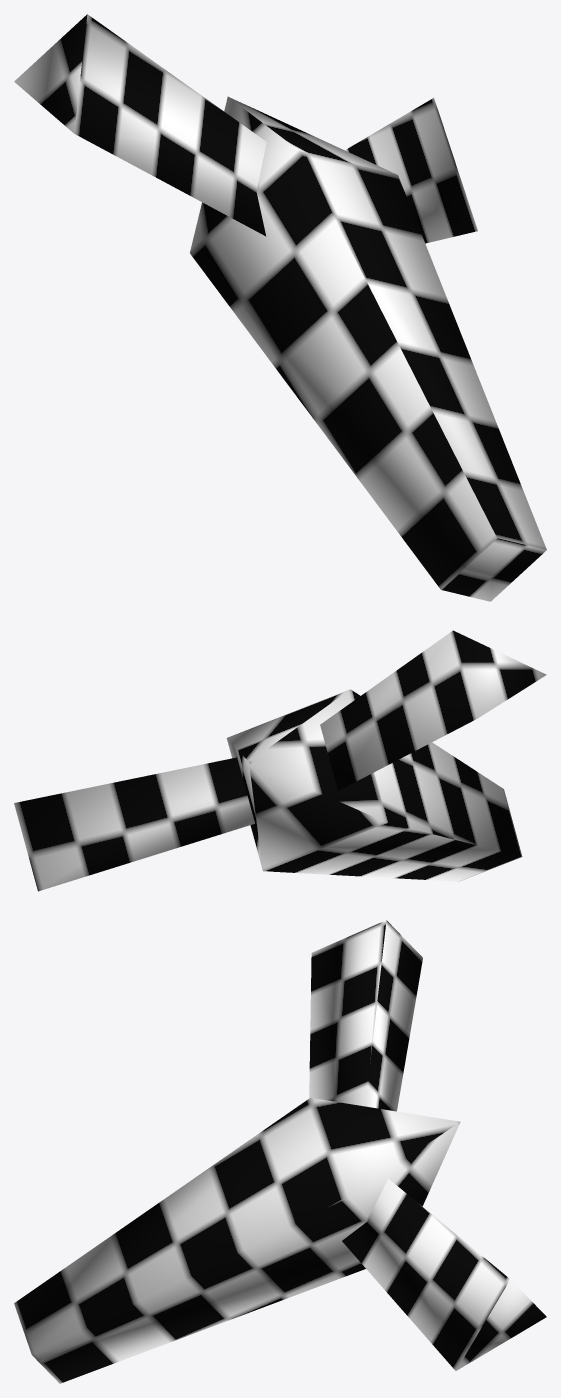
Rendered from initqu15.dae.
The picture shows the model from 3 angles, top to bottom: view 1: azimuth 30°, elevation 25°; view 2: azimuth 150°, elevation 25°; view 3: azimuth 270°, elevation 25°; orthographic projection. The views are drawn at different scales.
Visible parts, largest first — view 1: item; view 2: item; view 3: item.
Boxes of the visible parts, <box> form: item: <box>14,14,546,601</box>; item: <box>14,630,546,891</box>; item: <box>14,920,546,1383</box>.
Size of the model in its own units: 1.34 by 1.57 by 1.26.
1 material, 1 textured.
